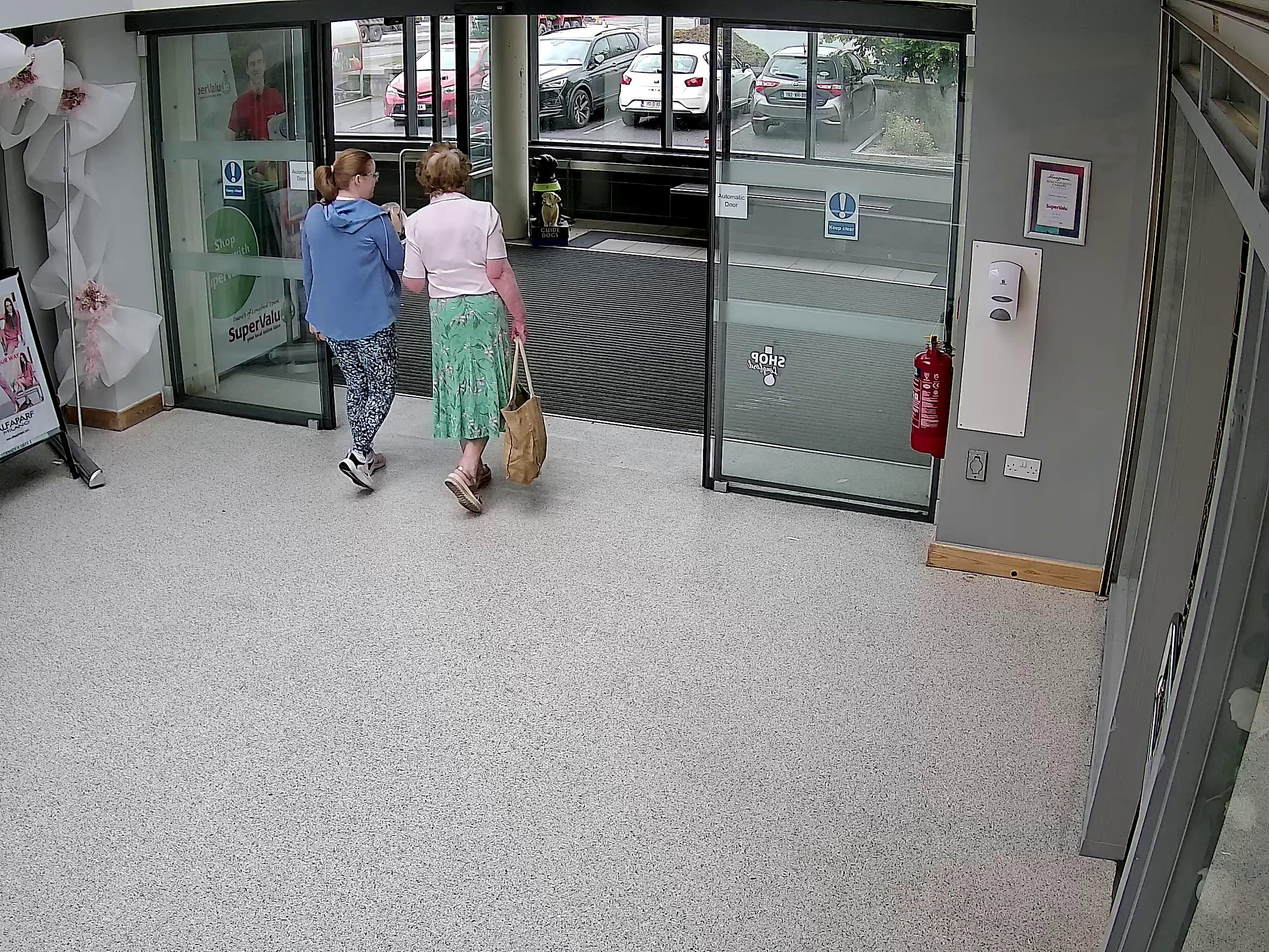filled-shopping-bags: (499, 347, 547, 485)
person: (401, 143, 526, 512)
person-with-filled-shopping-bag-s-: (401, 142, 548, 516)
